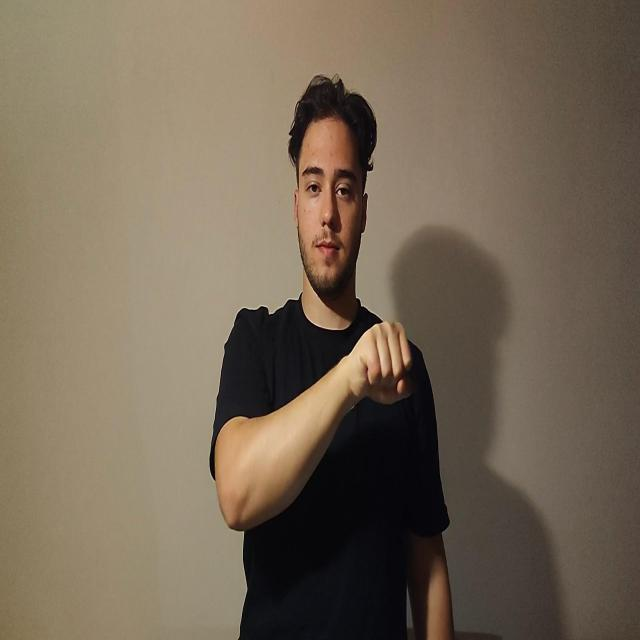yes: (346, 319, 416, 406)
